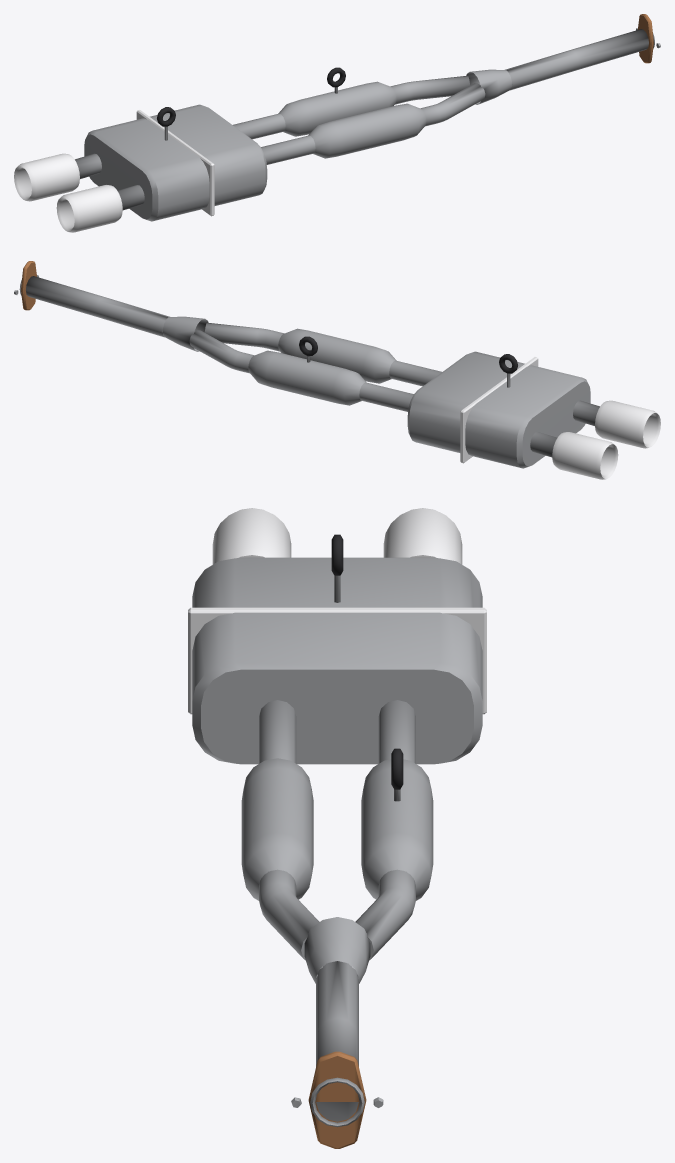
File: exh_sport.glb
The picture shows the model from 3 angles, top to bottom: view 1: azimuth 30°, elevation 25°; view 2: azimuth 150°, elevation 25°; view 3: azimuth 270°, elevation 25°; orthographic projection. The views are drawn at different scales.
Visible parts, largest first — view 1: PART; view 2: PART; view 3: PART.
Part boxes in pixels (x1,y1,x2,y2): PART: (14, 14, 660, 232); PART: (14, 261, 660, 479); PART: (188, 508, 486, 1148).
Size of the model in its own units: 1.64 by 0.2166 by 0.35.
